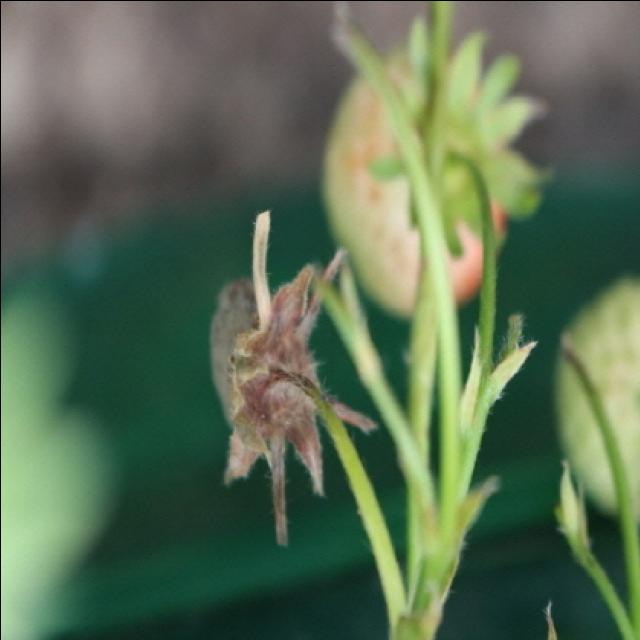Gray Mold: (208, 207, 378, 546)
